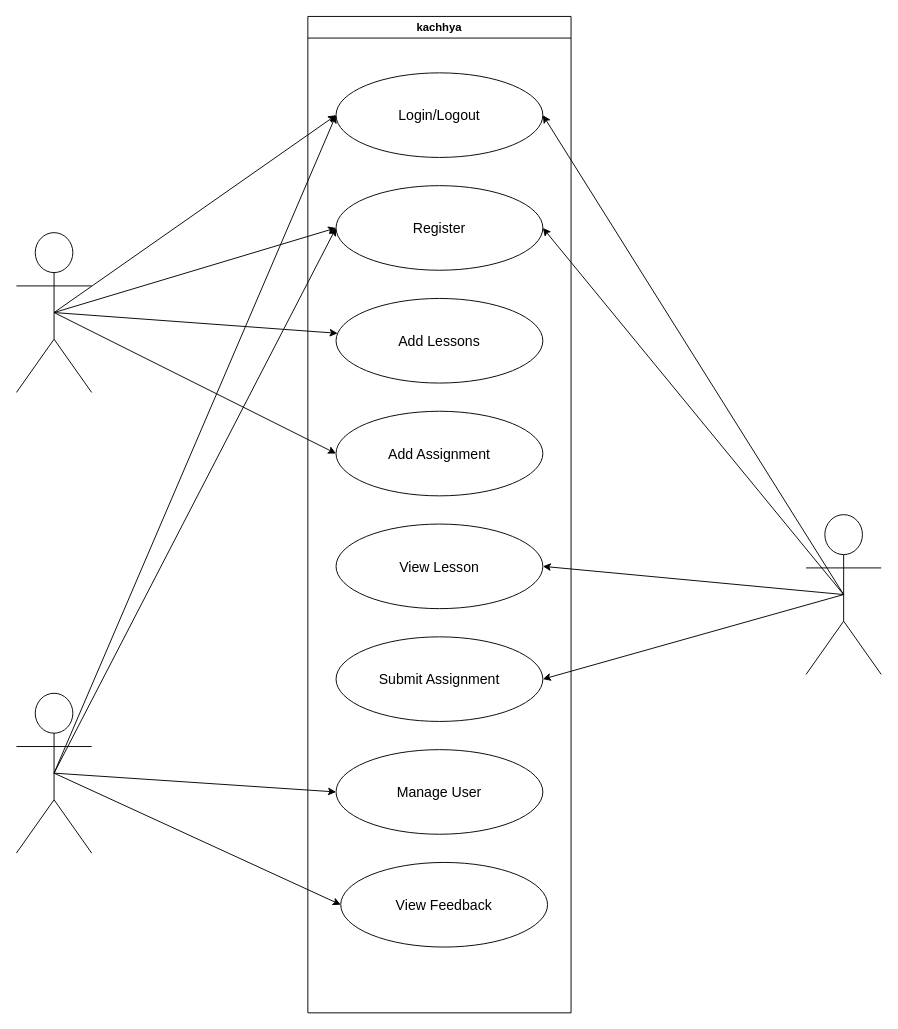
The diagram is 898 pixels wide and 1029 high, and some of its shapes have lost their labels. Each missing label, with the centre of its shape:
"Admin" goes at (54,772).
"Student" goes at (843,594).
"Teacher" goes at (54,312).
